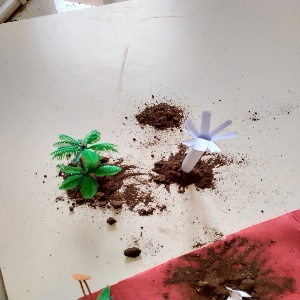plant: (43, 122, 122, 212)
weed: (167, 109, 231, 185)
